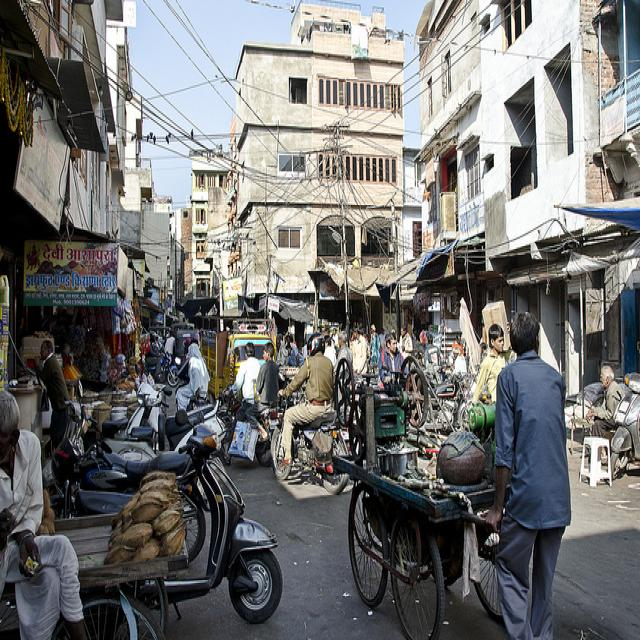motor: (169, 418, 284, 625), (42, 408, 164, 491), (124, 374, 228, 471), (270, 397, 349, 494), (222, 403, 283, 465), (610, 372, 640, 481), (146, 345, 180, 386), (187, 389, 210, 406)
